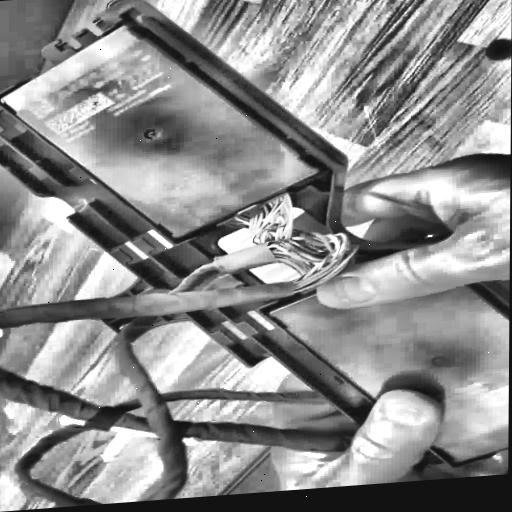high_volt_cable: (0, 191, 380, 508)
